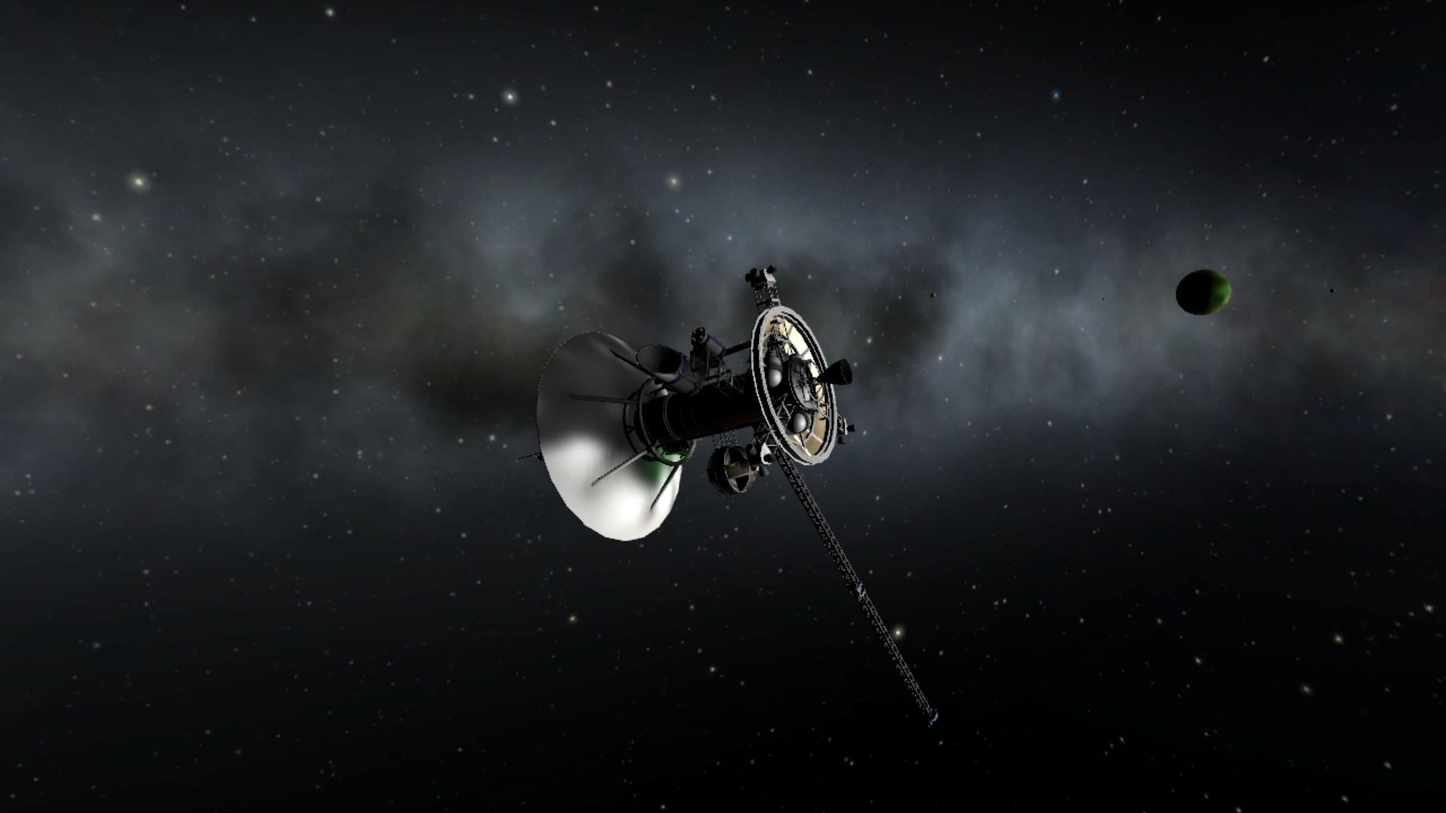antenna: (749, 426, 955, 735), (514, 328, 685, 544)
body: (636, 352, 819, 450)
thruster: (816, 357, 856, 388), (743, 441, 758, 458), (758, 464, 770, 480), (765, 261, 779, 274), (739, 458, 753, 471), (763, 453, 778, 465), (749, 267, 763, 279), (835, 433, 848, 445), (846, 422, 858, 434), (742, 273, 755, 284)
